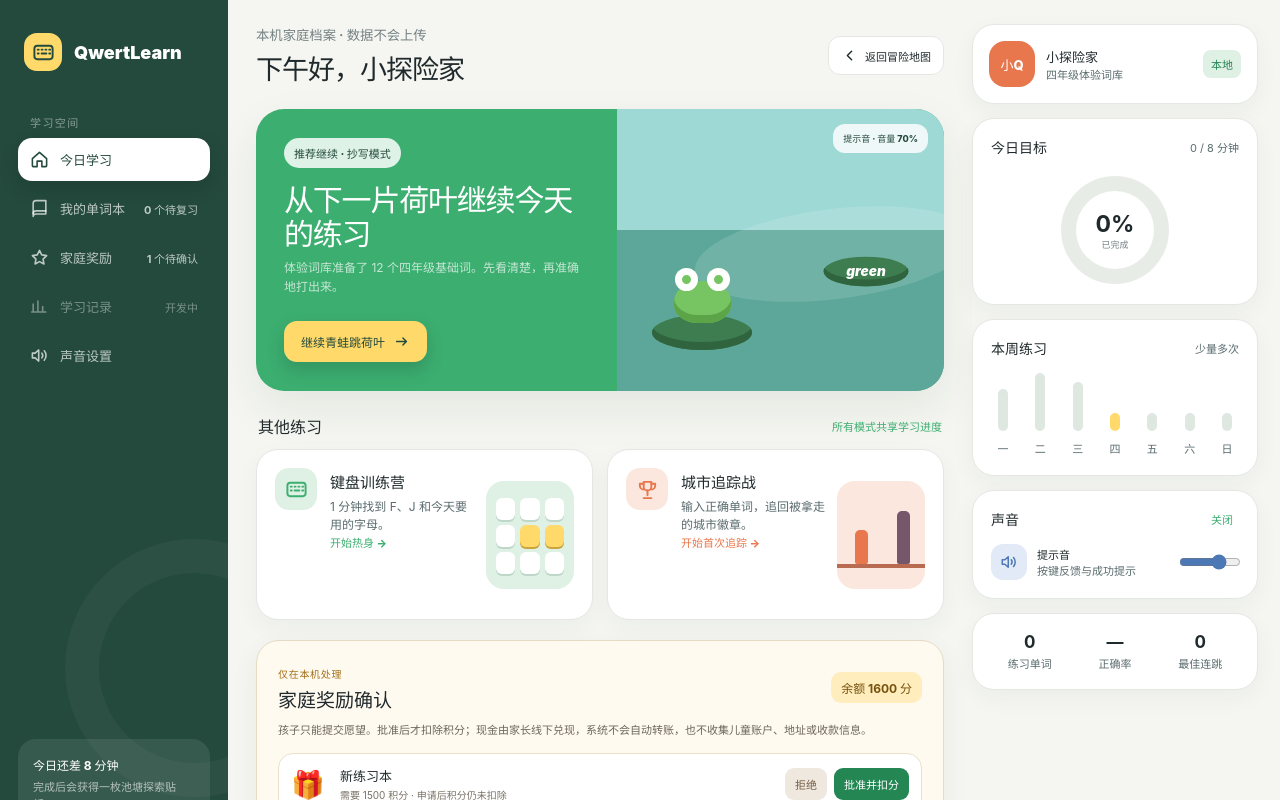
it: ParentDashboard › approves a pending family reward through ProgressStore before deducting points
Click the button with aria-label "批准 新练习本". click: {"x": 872, "y": 784}
box: left=834, top=768, right=909, bottom=799
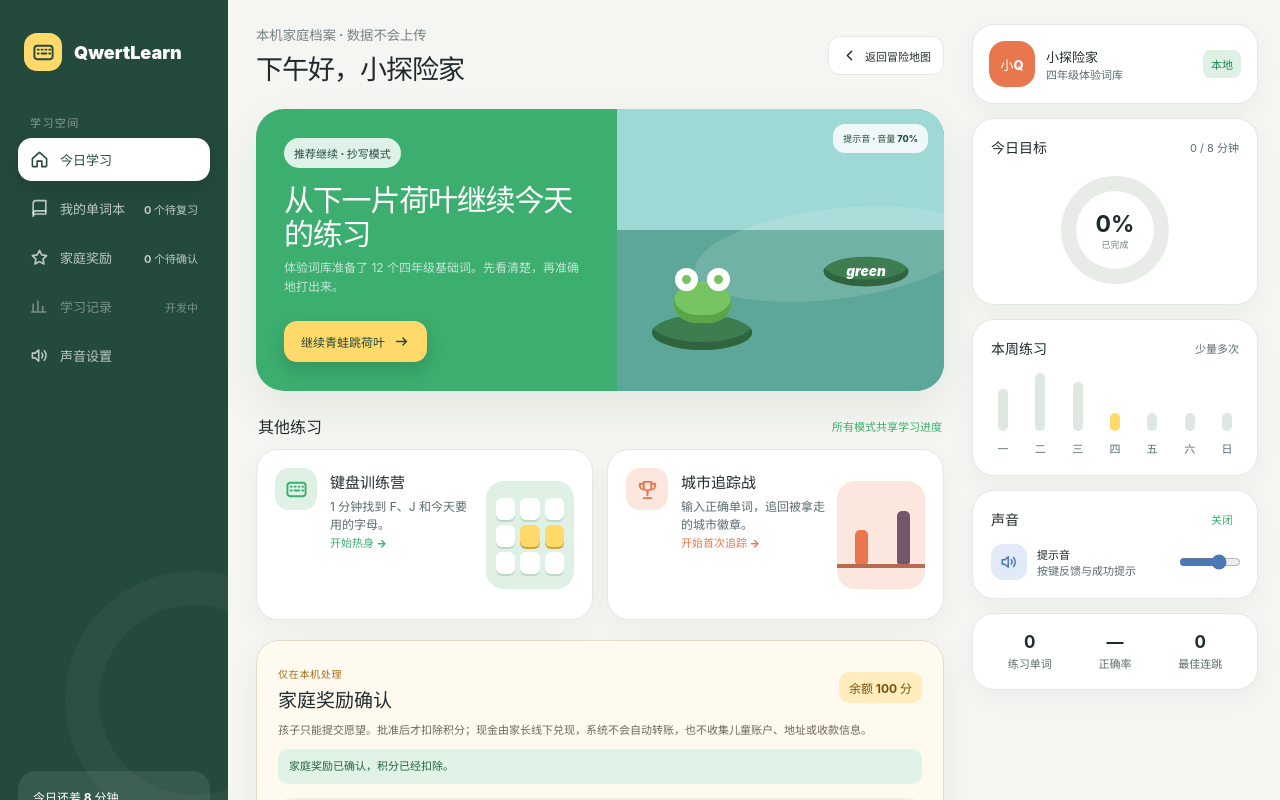
Expected: the message shows "积分已经扣除", left=289, top=759, right=454, bottom=773
Expected: the text "余额 100 分" is shown, left=839, top=672, right=922, bottom=702
